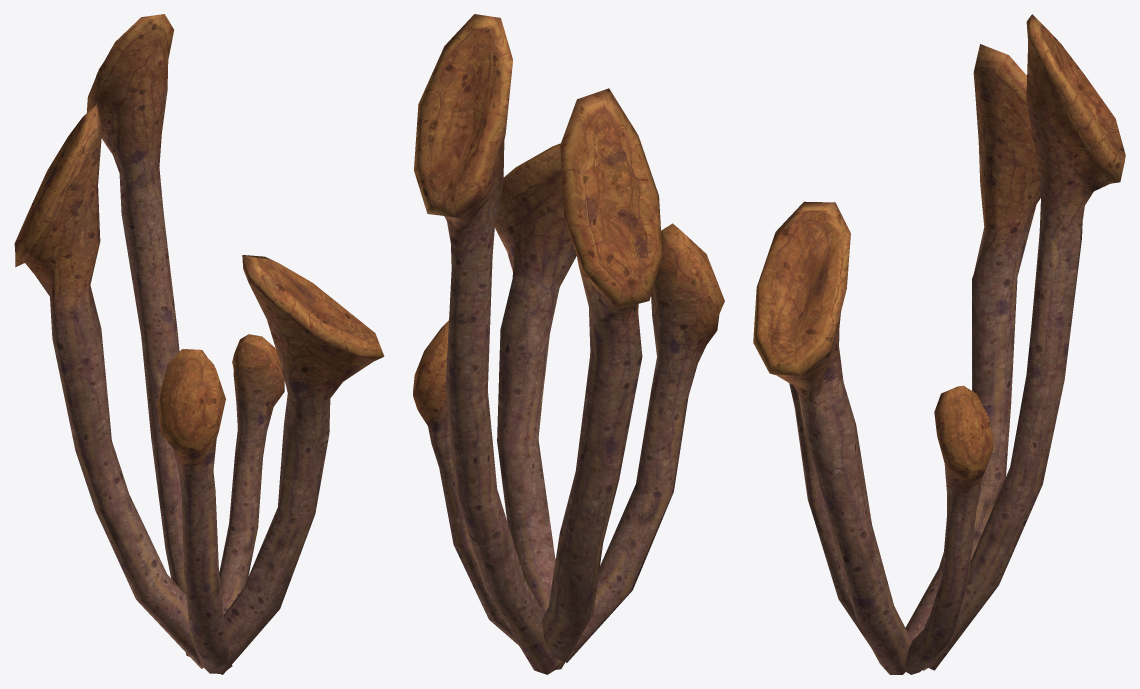
Rendered from Shroom_Plant2_4_L0.fbx.
The picture shows the model from 3 angles, left to right: view 1: azimuth 30°, elevation 25°; view 2: azimuth 150°, elevation 25°; view 3: azimuth 270°, elevation 25°; orthographic projection. The views are drawn at different scales.
Parts seen in each view (by area): view 1: polySurface294; view 2: polySurface294; view 3: polySurface294.
Boxes of the visible parts, bbox=[...] form: polySurface294: bbox=[14, 14, 384, 674]; polySurface294: bbox=[413, 14, 724, 674]; polySurface294: bbox=[753, 14, 1125, 674].
Size of the model in its own units: 48.5 by 111 by 57.59.
